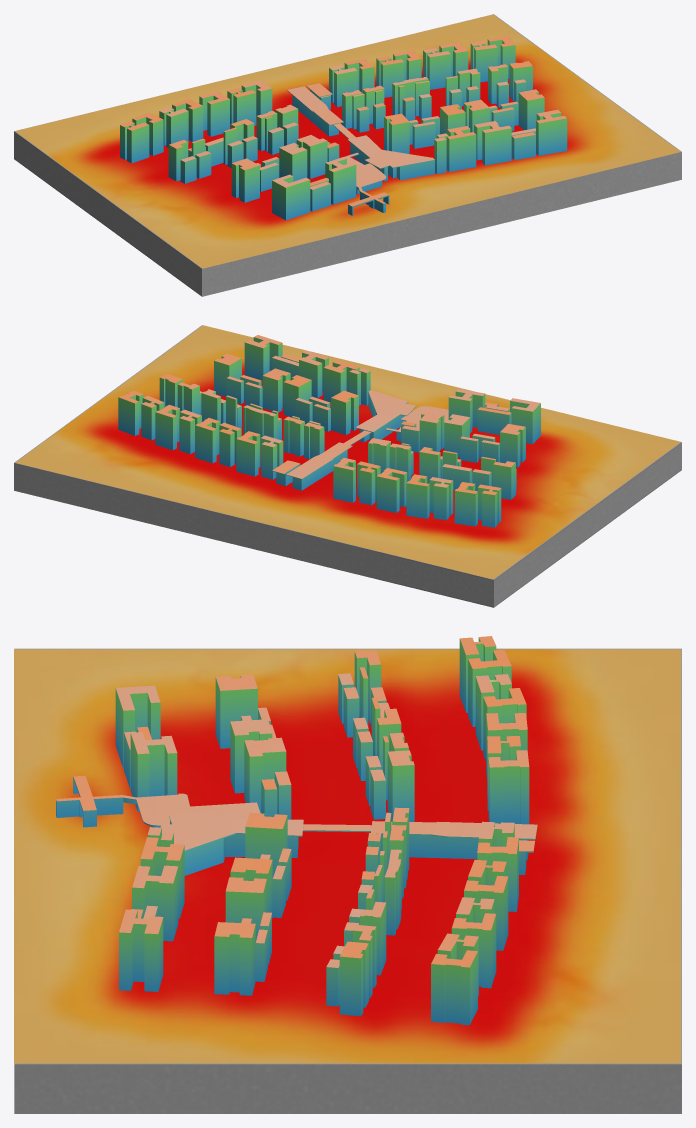
Rendered from environmental2.gltf.
3 renders of one model, top to bottom at view 1: azimuth 30°, elevation 25°; view 2: azimuth 150°, elevation 25°; view 3: azimuth 270°, elevation 25°, orthographic. The views are drawn at different scales.
Visible parts, largest first — view 1: Plane, Building, Cube; view 2: Plane, Building, Cube; view 3: Plane, Building, Cube.
Part boxes in pixels (<box>): Plane: <box>15,14,680,268</box>; Building: <box>120,36,567,220</box>; Cube: <box>14,14,681,296</box>; Plane: <box>15,325,680,579</box>; Building: <box>118,335,540,527</box>; Cube: <box>14,325,681,607</box>; Plane: <box>14,649,680,1063</box>; Building: <box>56,636,537,1025</box>; Cube: <box>14,648,681,1113</box>.
Size of the model in its own units: 1618 by 195 by 1099.
Materials: 3 (3 with a texture image).
